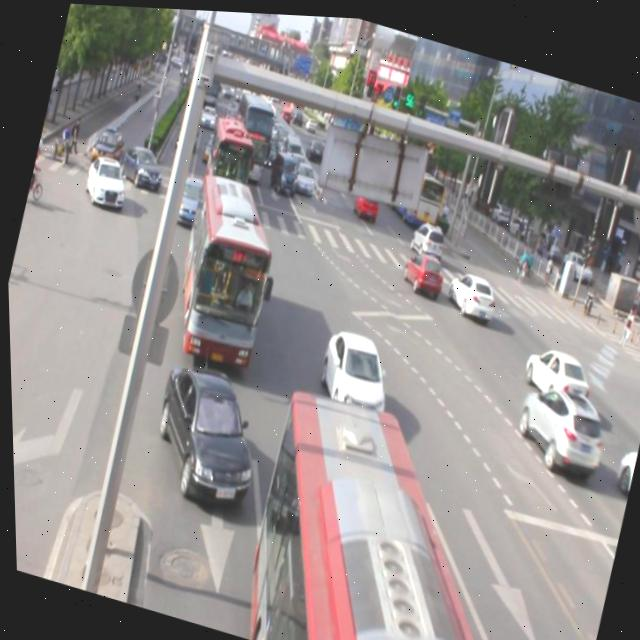car: (140, 355, 272, 510), (504, 368, 613, 478), (309, 318, 397, 419), (513, 333, 595, 407), (439, 260, 499, 320), (395, 242, 446, 293)
van: (226, 379, 572, 640), (161, 170, 289, 369)
